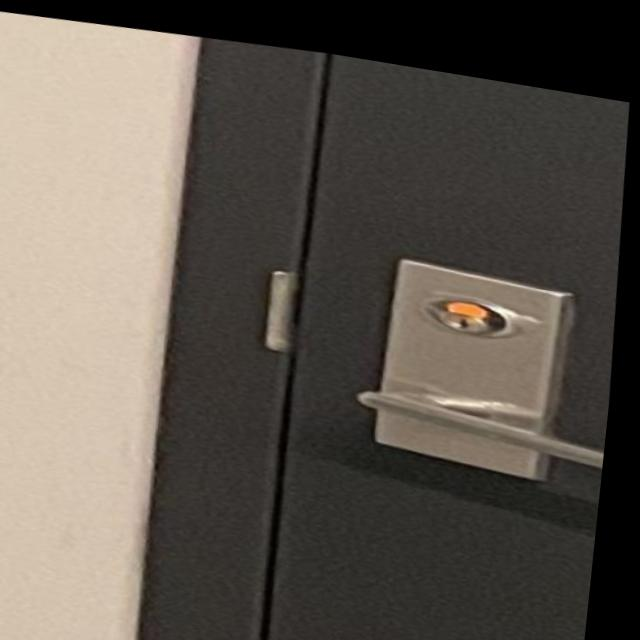door_handle: (288, 318, 617, 475)
